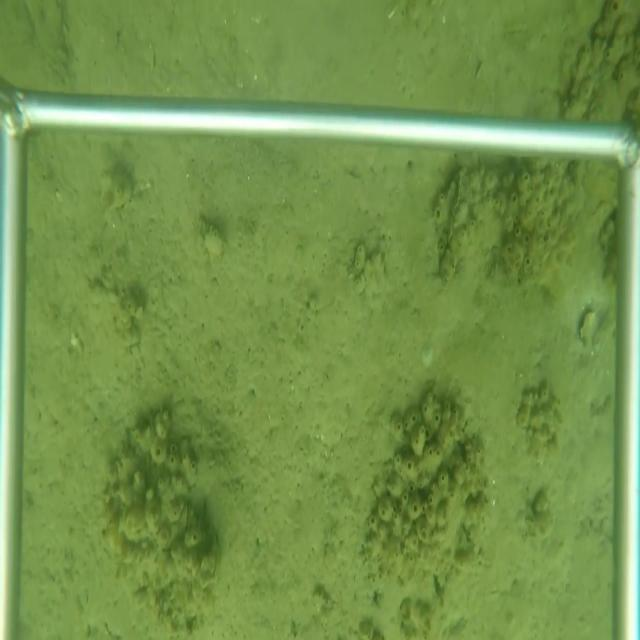Oyster-Closed: (437, 166, 468, 281), (576, 308, 600, 349)
